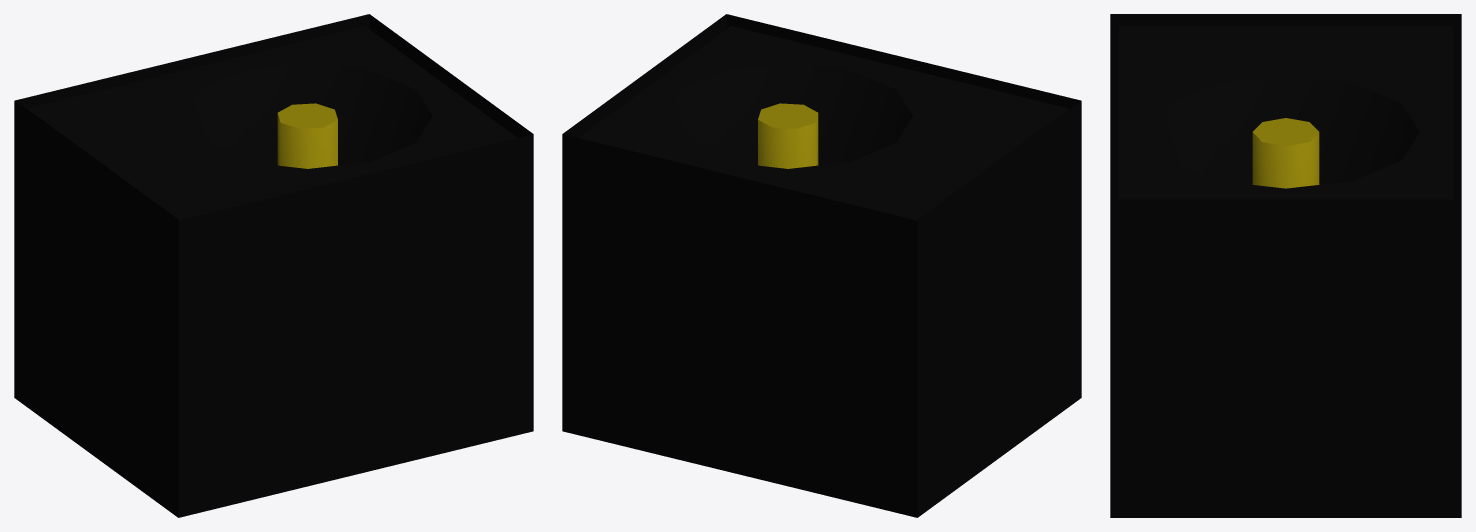
File: power_plug.glb
3 views of the same model, side by side, from view 1: azimuth 30°, elevation 25°; view 2: azimuth 150°, elevation 25°; view 3: azimuth 270°, elevation 25° (orthographic). The views are drawn at different scales.
Parts seen in each view (by area): view 1: PowerSlot; view 2: PowerSlot; view 3: PowerSlot.
Boxes of the visible parts, x1=… form: PowerSlot: x1=14, y1=14, x2=533, y2=517; PowerSlot: x1=562, y1=14, x2=1081, y2=517; PowerSlot: x1=1110, y1=14, x2=1461, y2=517.
Size of the model in its own units: 0.00919 by 0.00735 by 0.00735.
